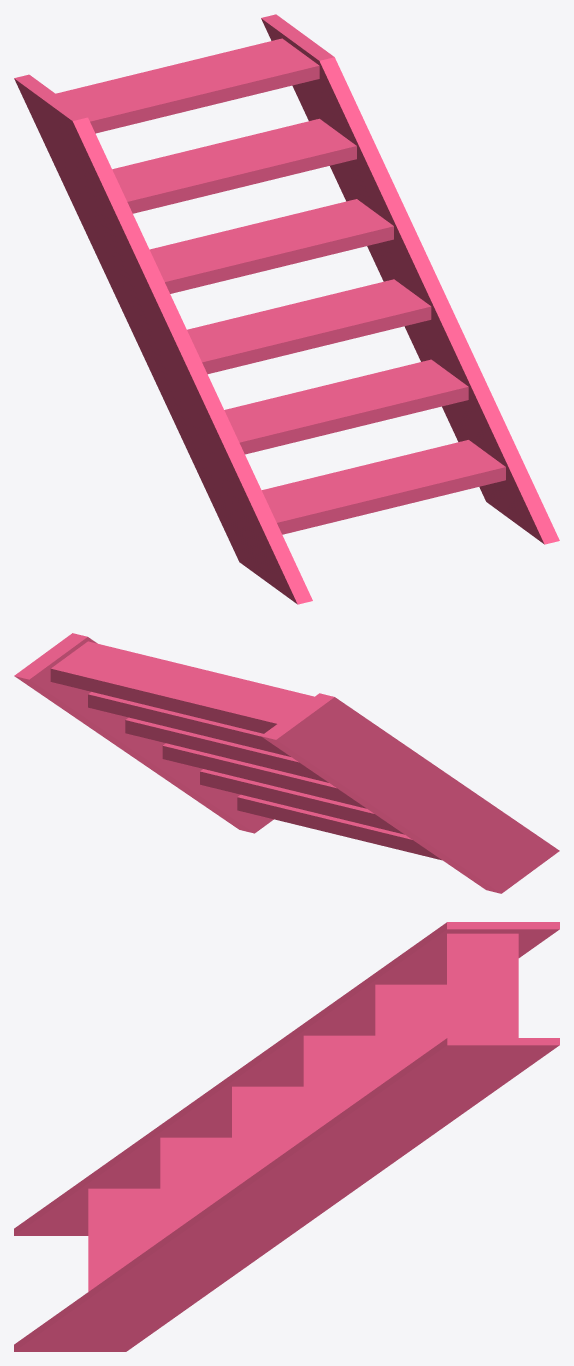
File: Stairs_085.glb
3 views of the same model, one above another, from view 1: azimuth 30°, elevation 25°; view 2: azimuth 150°, elevation 25°; view 3: azimuth 270°, elevation 25° (orthographic). The views are drawn at different scales.
Visible parts, largest first — view 1: Stairs_085; view 2: Stairs_085; view 3: Stairs_085.
Boxes of the visible parts, left/top/right/bottom form: Stairs_085: left=14, top=14, right=559, bottom=604; Stairs_085: left=14, top=633, right=559, bottom=893; Stairs_085: left=14, top=922, right=559, bottom=1351.
Bounding box in the file's own units: 1.72 × 2 × 3.23.
Materials: 1 (1 with a texture image).
